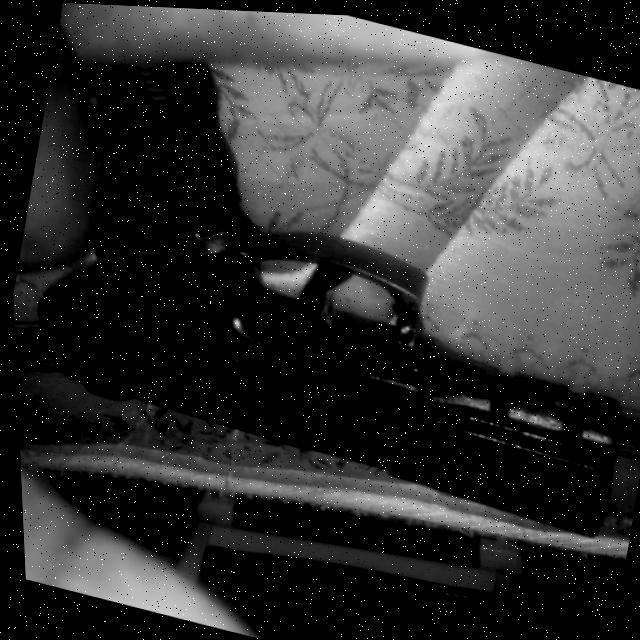pistol: (6, 20, 640, 540)
